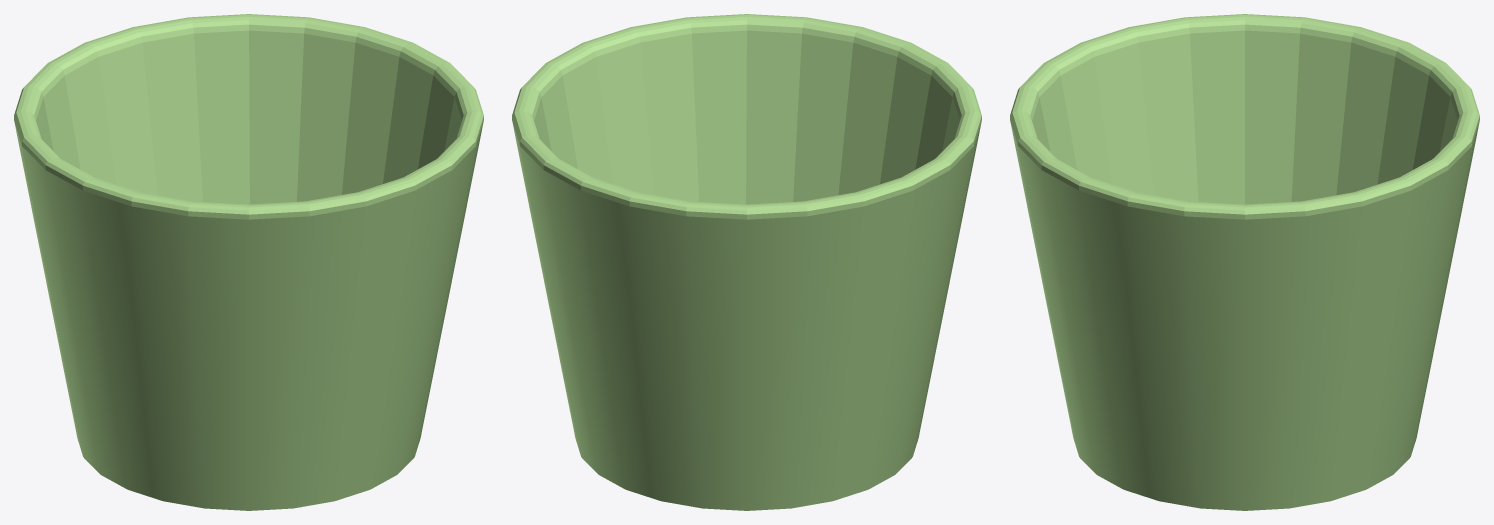
Rendered from cubo.obj.
The picture shows the model from 3 angles, left to right: view 1: azimuth 30°, elevation 25°; view 2: azimuth 150°, elevation 25°; view 3: azimuth 270°, elevation 25°; orthographic projection.
Parts seen in each view (by area): view 1: Cone001; view 2: Cone001; view 3: Cone001.
Boxes of the visible parts, left/top/right/bottom form: Cone001: left=14, top=14, right=483, bottom=510; Cone001: left=512, top=14, right=981, bottom=510; Cone001: left=1010, top=14, right=1479, bottom=510.
Bounding box in the file's own units: 4.56 × 3.5 × 4.56.
